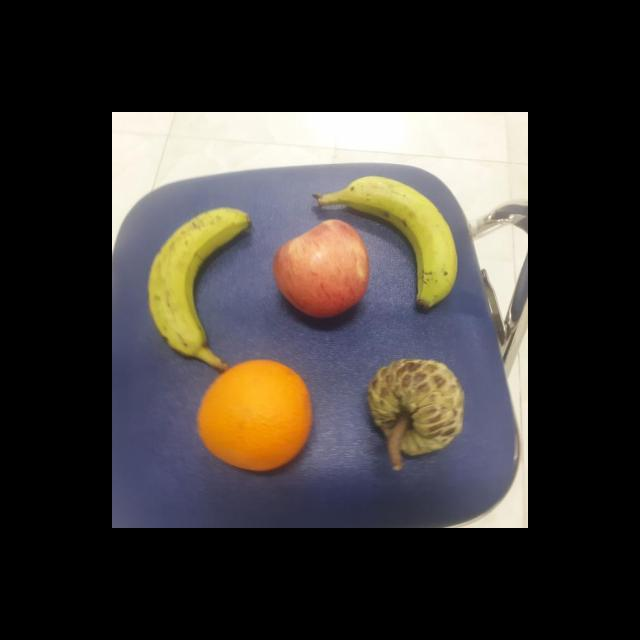Sakya fruit: (366, 350, 470, 470)
apple: (272, 216, 371, 324)
banana: (142, 205, 258, 376)
orange: (192, 354, 314, 476)
